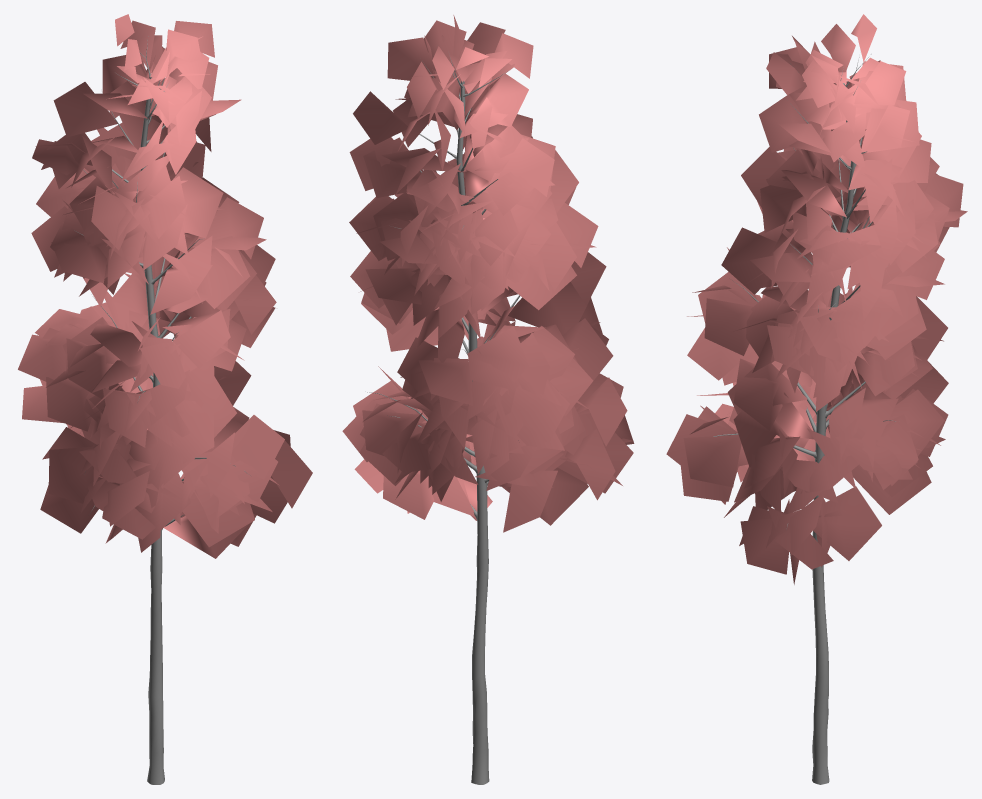
The model's file is Tree_Small_002.gltf.
3 renders of one model, left to right at view 1: azimuth 30°, elevation 25°; view 2: azimuth 150°, elevation 25°; view 3: azimuth 270°, elevation 25°, orthographic.
Parts seen in each view (by area): view 1: Tree_Small_002; view 2: Tree_Small_002; view 3: Tree_Small_002.
Part boxes in pixels (x1,y1,x2,y2): Tree_Small_002: [18, 14, 312, 784]; Tree_Small_002: [342, 15, 634, 784]; Tree_Small_002: [666, 14, 967, 784].
Bounding box in the file's own units: 4.92 × 13.3 × 4.85.
